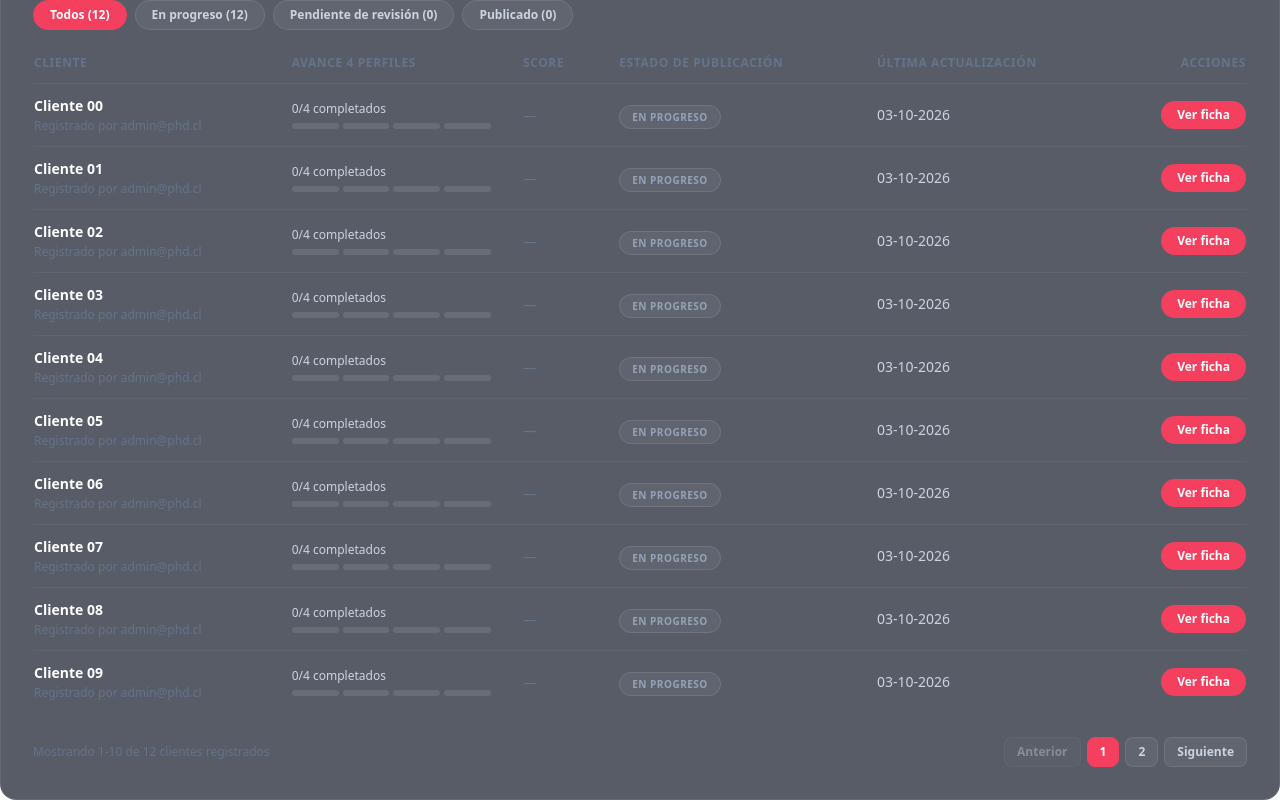
it: ClientsTable › filters, kebab menu and pagination › paginates 10 rows per page and resets to page 1 when the query changes
The image size is (1280, 800).
(page scrolled)
Check: the text "Mostrando 1-10 de 12 clientes registrados" is shown, box [33, 744, 270, 760]
Click the button "Siguiente" at (1206, 752), box [1164, 737, 1247, 767]
(page scrolled)
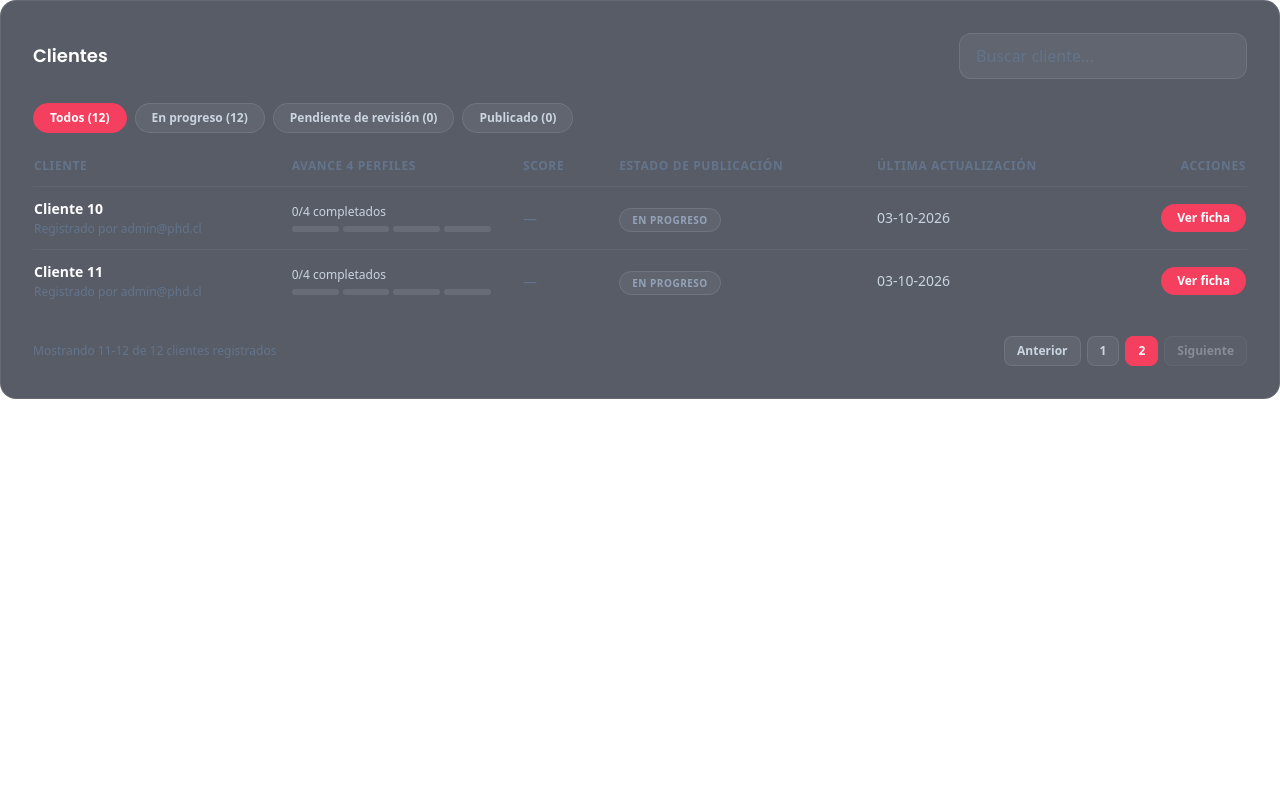
Check: the text "Mostrando 11-12 de 12 clientes registrados" is shown, box [33, 343, 276, 359]
Type "Cliente 0" into the field labelled "Buscar cliente" at (1103, 56), box [959, 33, 1247, 79]
(page scrolled)
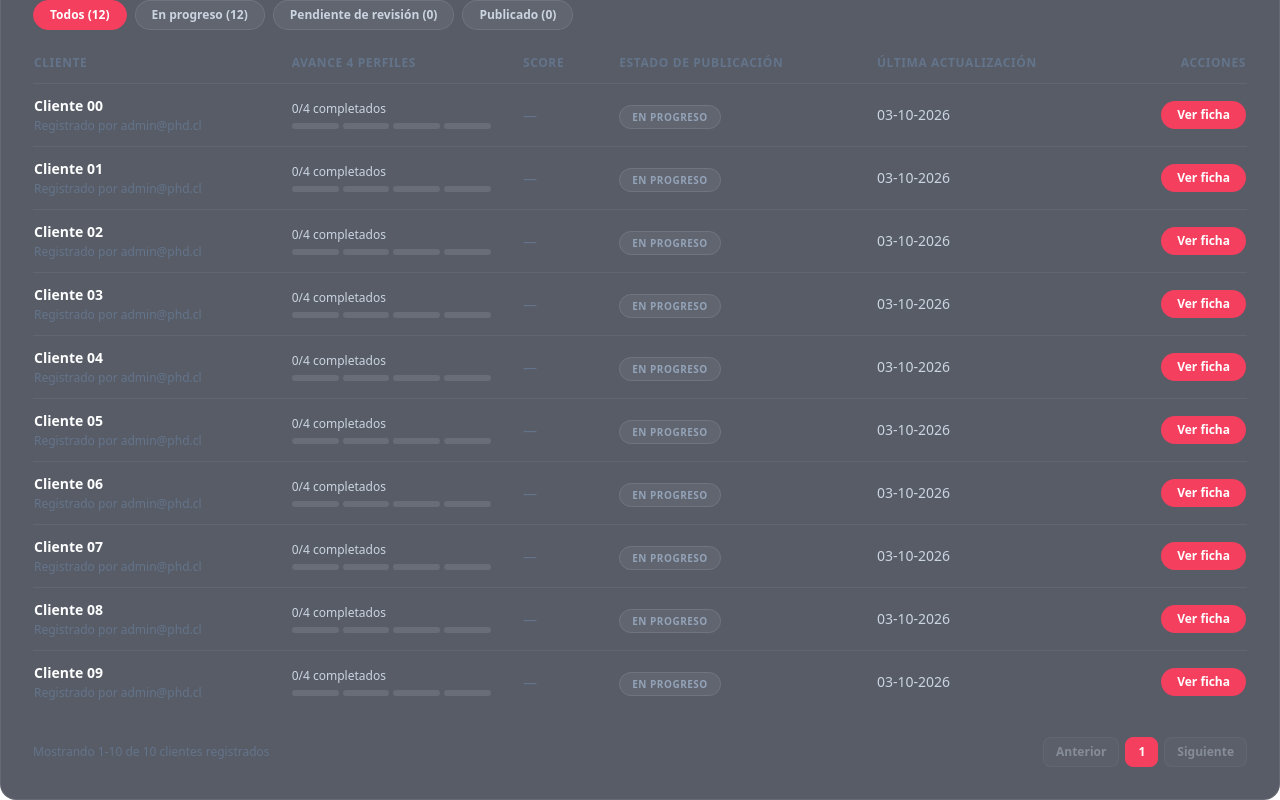
Check: the text "Mostrando 1-10 de 10 clientes registrados" is shown, box [33, 744, 270, 760]
